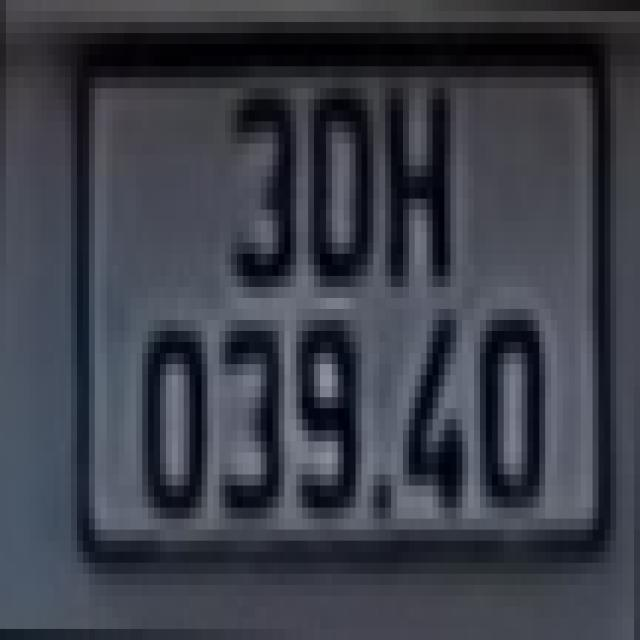0: (136, 320, 208, 519), (480, 309, 551, 508), (308, 77, 373, 287)
3: (225, 88, 296, 287), (220, 320, 284, 519)
4: (403, 309, 468, 519)
9: (290, 309, 362, 519)
H: (385, 77, 456, 287)
